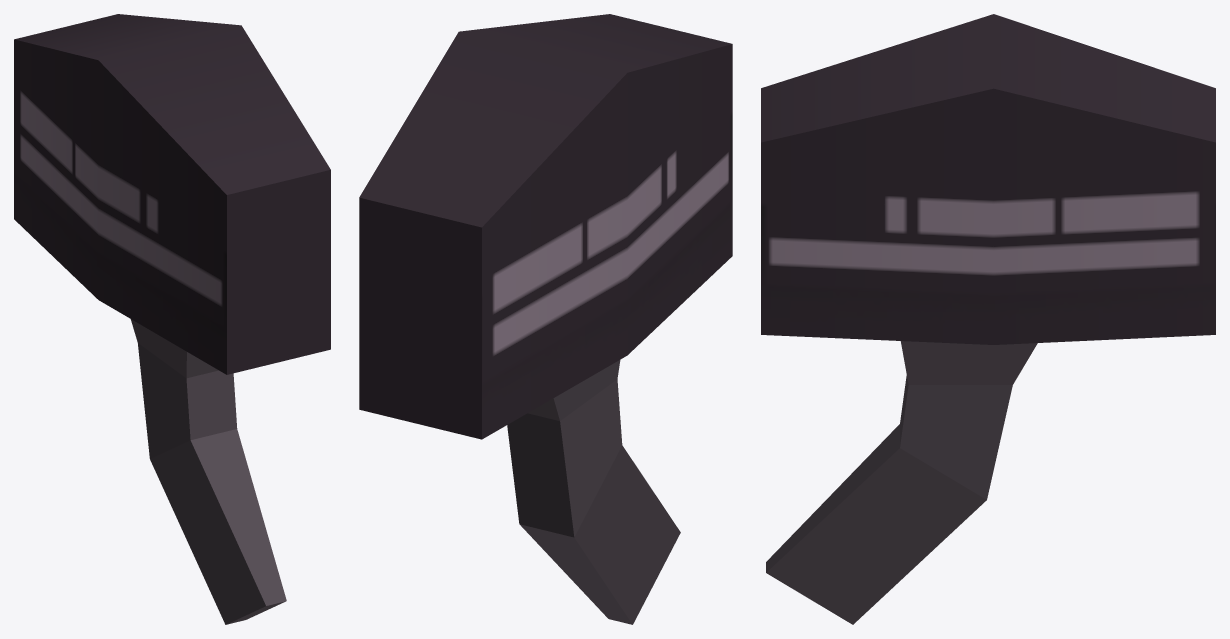
Rendered from motor.fbx.
The picture shows the model from 3 angles, left to right: view 1: azimuth 30°, elevation 25°; view 2: azimuth 150°, elevation 25°; view 3: azimuth 270°, elevation 25°; orthographic projection. The views are drawn at different scales.
Parts seen in each view (by area): view 1: motor2; view 2: motor2; view 3: motor2.
Part boxes in pixels (<box>): motor2: <box>14,14,330,624</box>; motor2: <box>359,14,732,624</box>; motor2: <box>761,14,1215,624</box>.
Bounding box in the file's own units: 0.0237 × 0.0843 × 0.0612.
